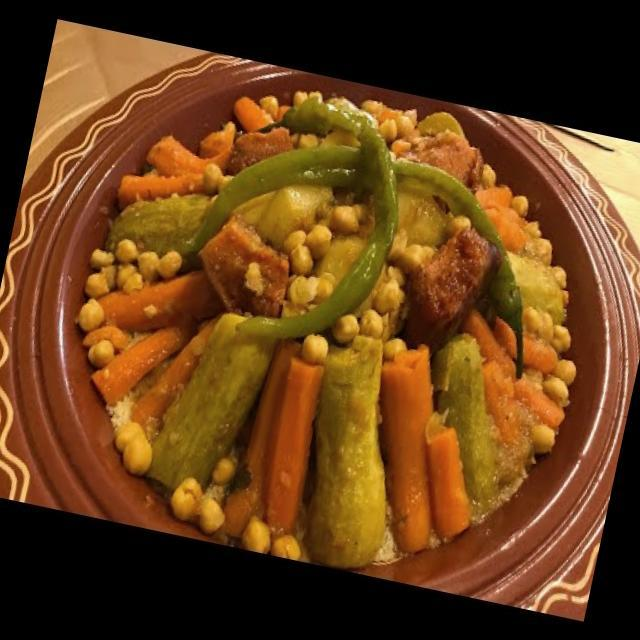Couscous: (29, 35, 640, 621)
